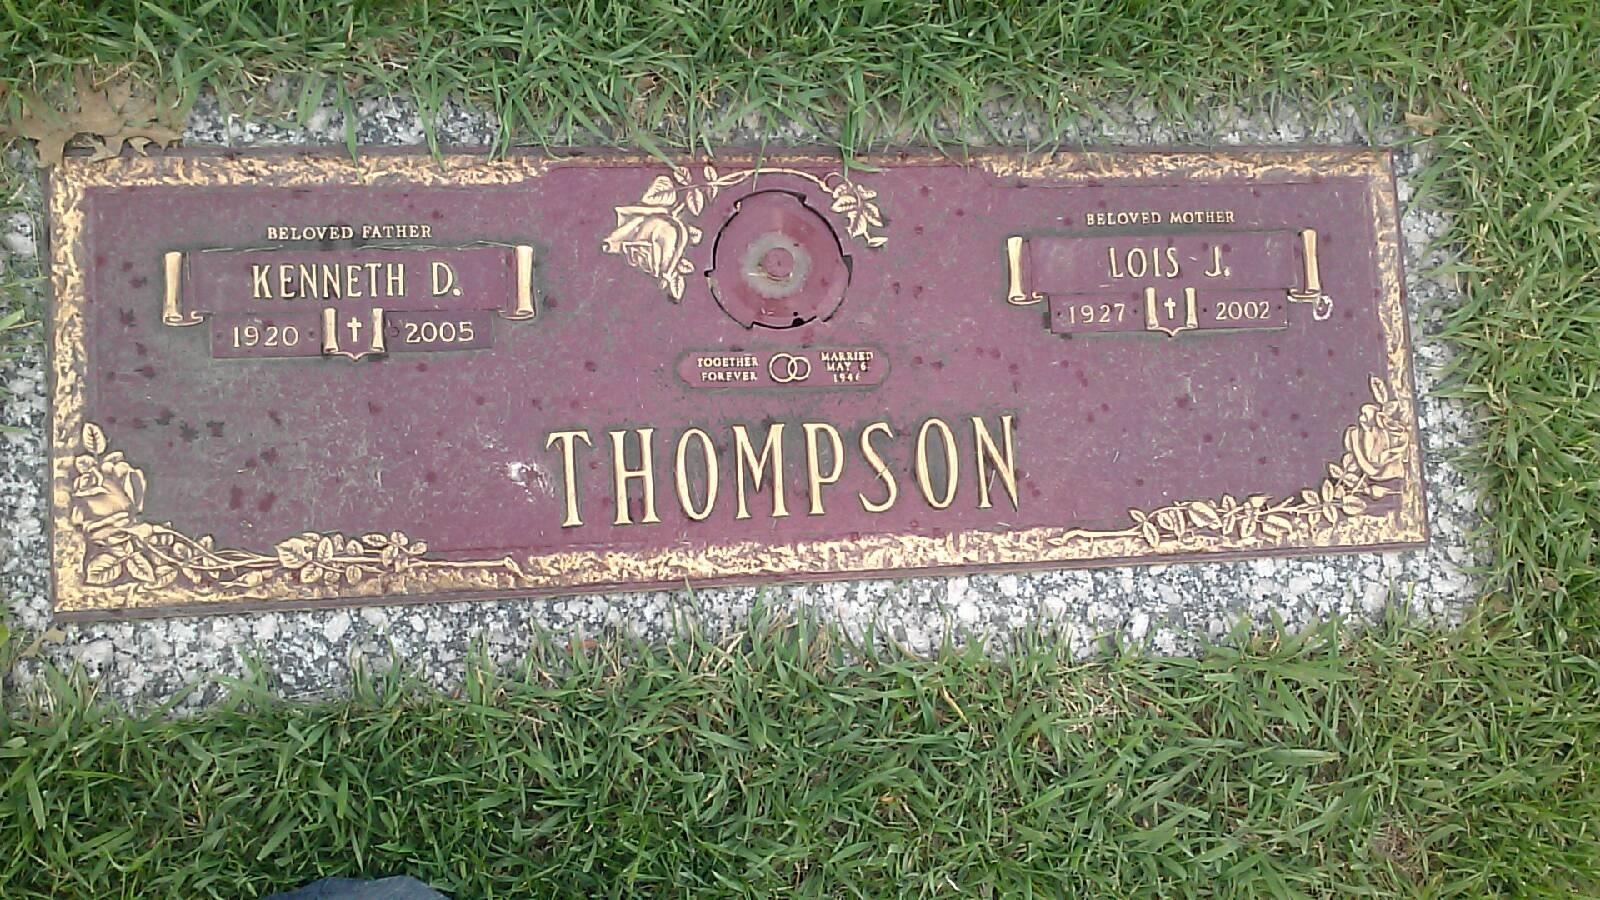flat: (16, 93, 1482, 636)
